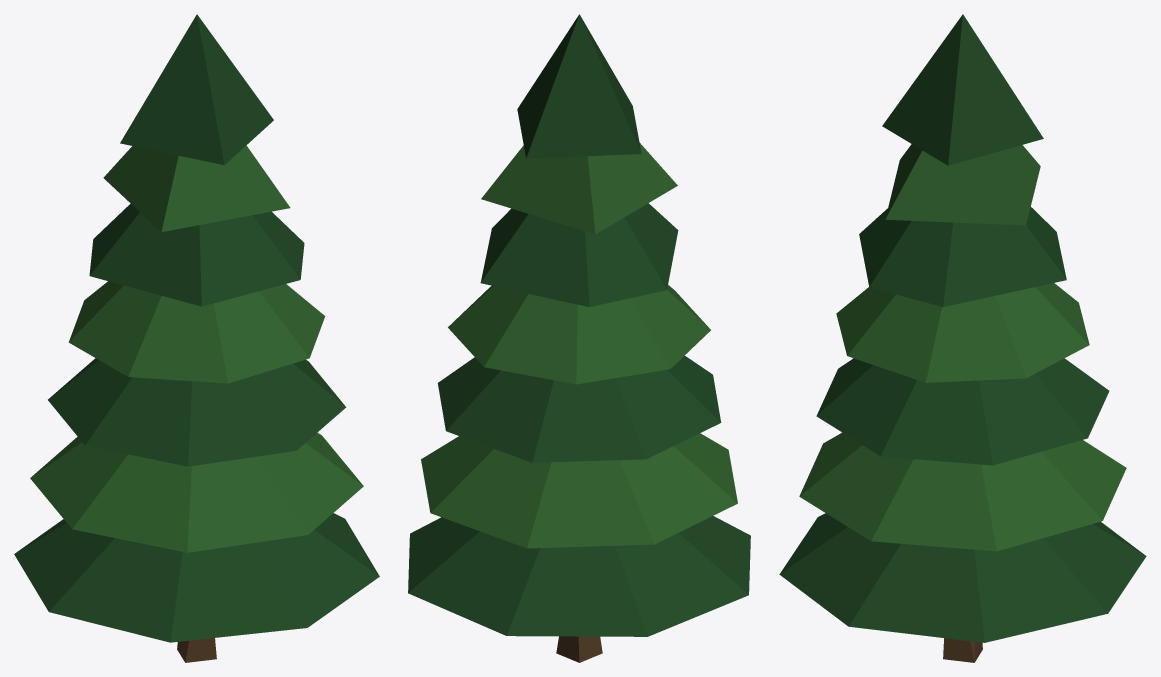
Rendered from tree_pine_3_lod1.glb.
The picture shows the model from 3 angles, left to right: view 1: azimuth 30°, elevation 25°; view 2: azimuth 150°, elevation 25°; view 3: azimuth 270°, elevation 25°; orthographic projection.
Parts seen in each view (by area): view 1: tree_pine_3_lod1; view 2: tree_pine_3_lod1; view 3: tree_pine_3_lod1.
Part boxes in pixels (x1,y1,x2,y2): tree_pine_3_lod1: (14, 14, 379, 662); tree_pine_3_lod1: (408, 14, 750, 662); tree_pine_3_lod1: (779, 14, 1146, 662).
Bounding box in the file's own units: 4.9 × 9.43 × 4.9.
